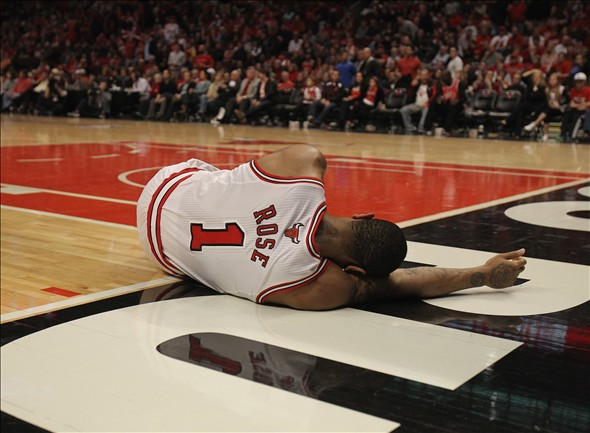10+: (4, 9, 587, 142)
down: (128, 138, 539, 315)
